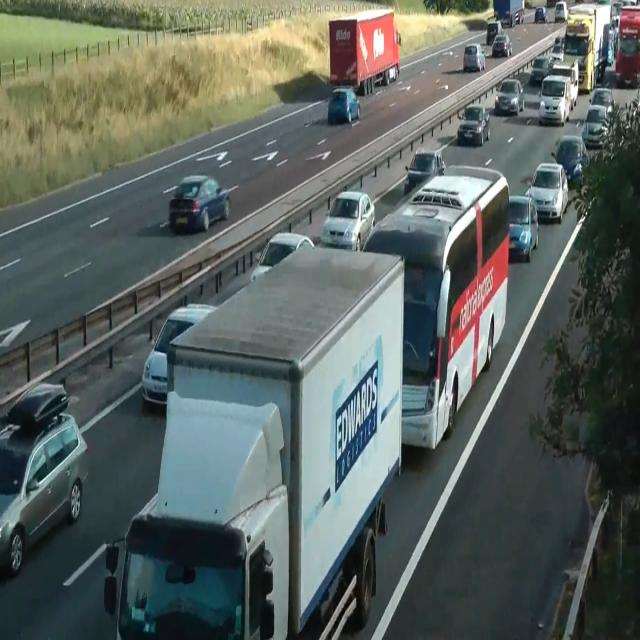bus: (140, 302, 218, 410), (168, 173, 230, 234), (320, 190, 376, 252), (250, 231, 315, 284), (6, 382, 68, 429), (525, 162, 569, 223), (551, 134, 589, 187), (508, 194, 538, 261), (403, 148, 445, 195), (580, 104, 612, 148), (457, 104, 490, 146), (328, 86, 360, 125), (494, 78, 524, 116), (588, 87, 616, 112), (463, 43, 485, 72), (530, 56, 552, 85), (492, 33, 512, 58), (487, 20, 502, 44), (554, 1, 568, 22), (549, 44, 563, 63), (534, 5, 547, 23)
car: (103, 244, 405, 638), (362, 164, 511, 450)
jeep: (0, 381, 88, 575), (538, 74, 571, 125)
minibus: (329, 7, 401, 96), (563, 2, 611, 92), (614, 5, 640, 87), (494, 0, 524, 27)
